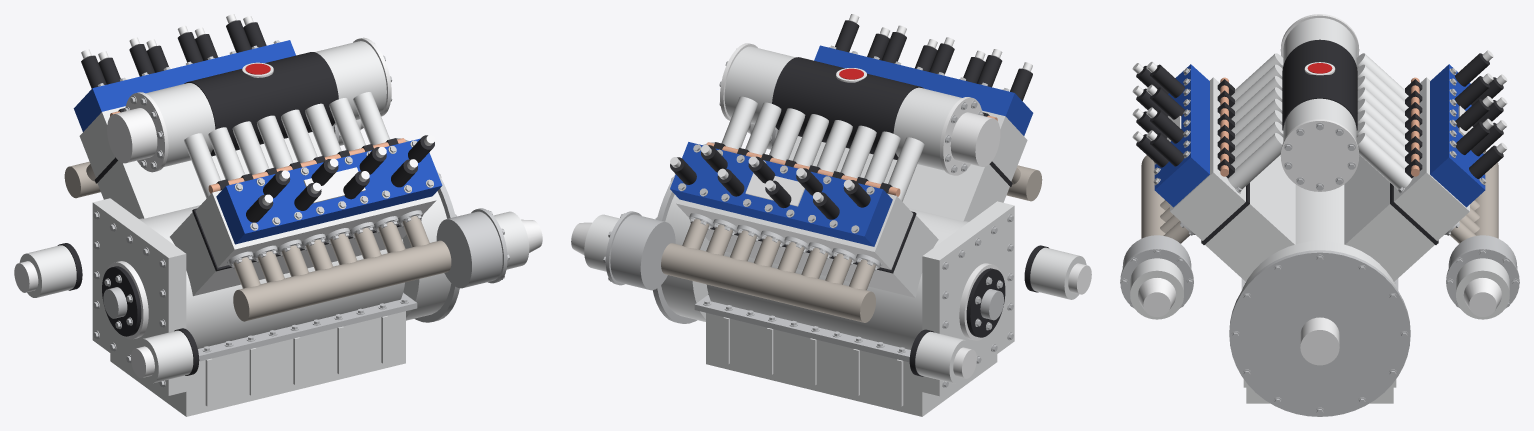
The model's file is bugatti_w16_engine.glb.
3 renders of one model, left to right at view 1: azimuth 30°, elevation 25°; view 2: azimuth 150°, elevation 25°; view 3: azimuth 270°, elevation 25°, orthographic. The views are drawn at different scales.
Visible parts, largest first — view 1: aluminium, black, steel, blue, titanium, chrome, copper; view 2: aluminium, black, steel, blue, titanium, chrome, copper; view 3: aluminium, steel, black, chrome, blue, titanium, copper.
Part boxes in pixels (bbox=[...]): aluminium: bbox=[19, 41, 529, 416]; black: bbox=[57, 20, 434, 375]; steel: bbox=[93, 40, 509, 387]; blue: bbox=[73, 40, 442, 244]; titanium: bbox=[64, 161, 451, 321]; chrome: bbox=[14, 14, 542, 378]; copper: bbox=[110, 111, 405, 193]; aluminium: bbox=[584, 46, 1086, 416]; black: bbox=[670, 20, 1048, 376]; steel: bbox=[603, 45, 1013, 387]; blue: bbox=[670, 45, 1033, 246]; titanium: bbox=[661, 165, 1042, 322]; chrome: bbox=[571, 14, 1091, 378]; copper: bbox=[706, 115, 997, 196]; aluminium: bbox=[1130, 18, 1509, 403]; steel: bbox=[1120, 68, 1519, 416]; black: bbox=[1136, 39, 1503, 244]; chrome: bbox=[1132, 14, 1507, 365]; blue: bbox=[1154, 64, 1485, 207]; titanium: bbox=[1141, 152, 1498, 243]; copper: bbox=[1220, 77, 1419, 176].
Bounding box in the file's own units: 0.845 × 0.6465 × 0.8155.
